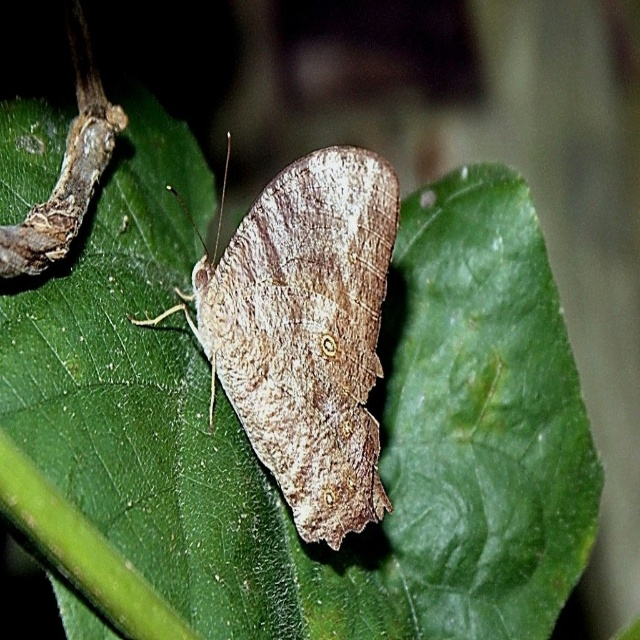Butterfly: (126, 131, 401, 551)
